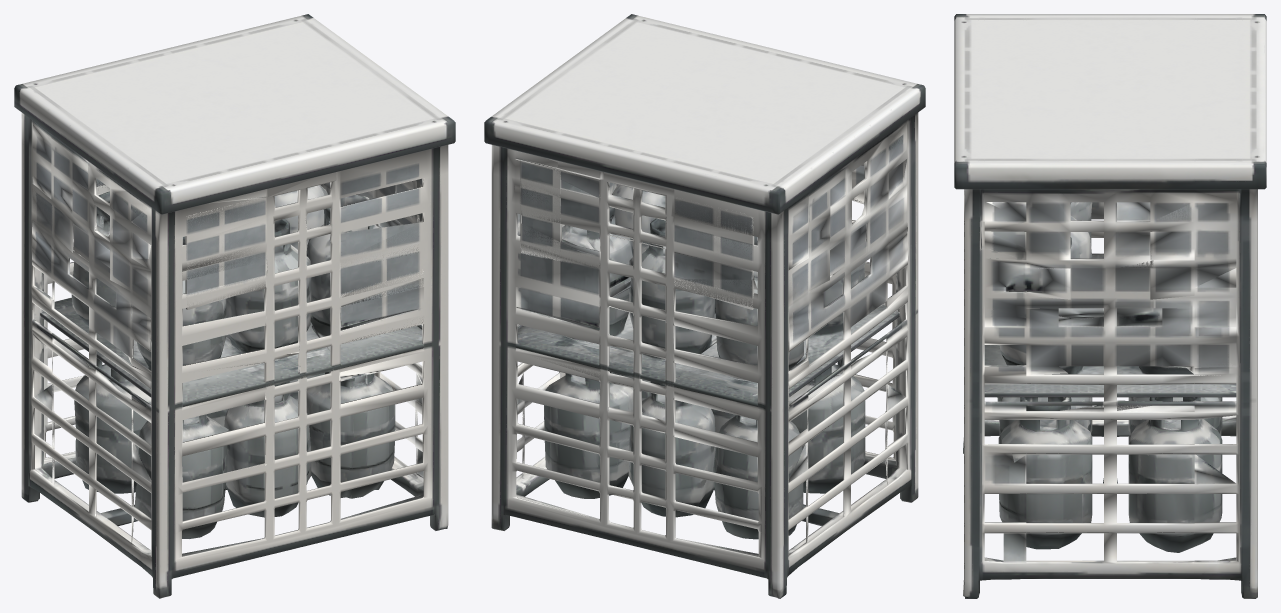
The model's file is PROP_PROPANECAGE.glb.
3 renders of one model, left to right at view 1: azimuth 30°, elevation 25°; view 2: azimuth 150°, elevation 25°; view 3: azimuth 270°, elevation 25°, orthographic. The views are drawn at different scales.
Size of the model in its own units: 1.44 by 1.91 by 1.24.
Materials: 1 (1 with a texture image).
